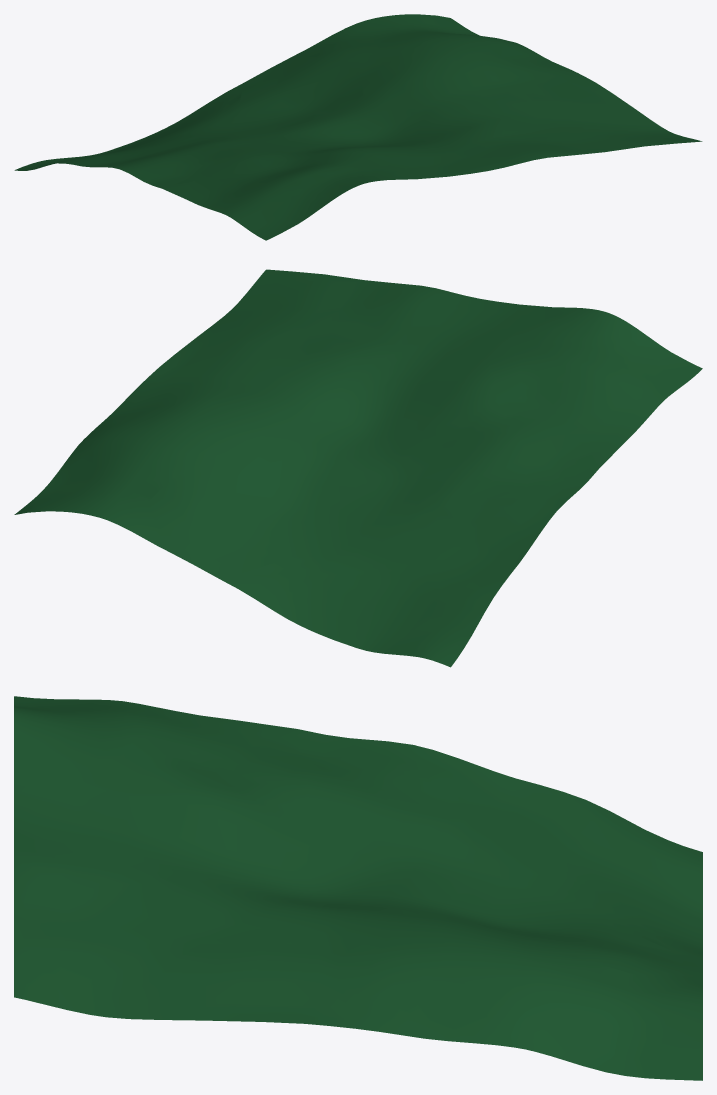
Rendered from payo_land_x0_ym3_lod2.glb.
3 renders of one model, top to bottom at view 1: azimuth 30°, elevation 25°; view 2: azimuth 150°, elevation 25°; view 3: azimuth 270°, elevation 25°, orthographic. The views are drawn at different scales.
Visible parts, largest first — view 1: payo_land_x0_ym3; view 2: payo_land_x0_ym3; view 3: payo_land_x0_ym3.
Part boxes in pixels (<box>): payo_land_x0_ym3: <box>14,14,702,240</box>; payo_land_x0_ym3: <box>14,269,702,667</box>; payo_land_x0_ym3: <box>14,696,702,1080</box>.
Size of the model in its own units: 255 by 84.43 by 255.
